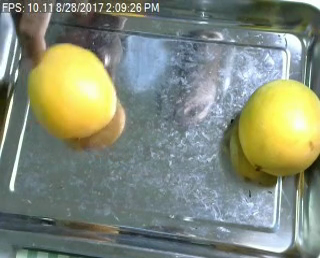Mango: (27, 42, 116, 140), (239, 80, 320, 177)
